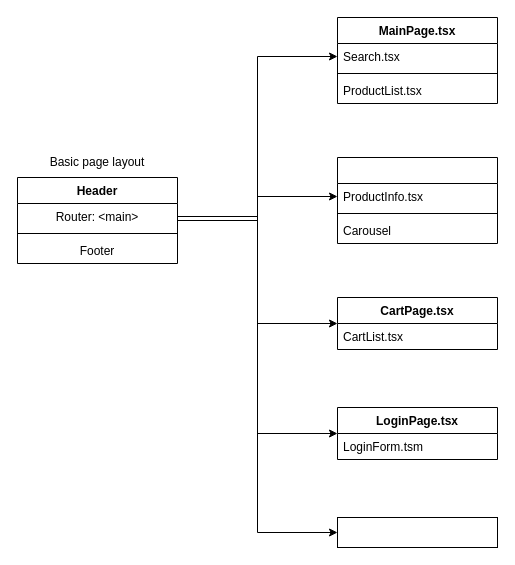
The diagram is 515 pixels wide and 565 high, and some of its shapes have lost their labels. Each missing label, with the box of its shape:
ProfilePage.tsx: (336, 516, 498, 548)
SingleProductPage.tsx: (336, 156, 498, 244)
